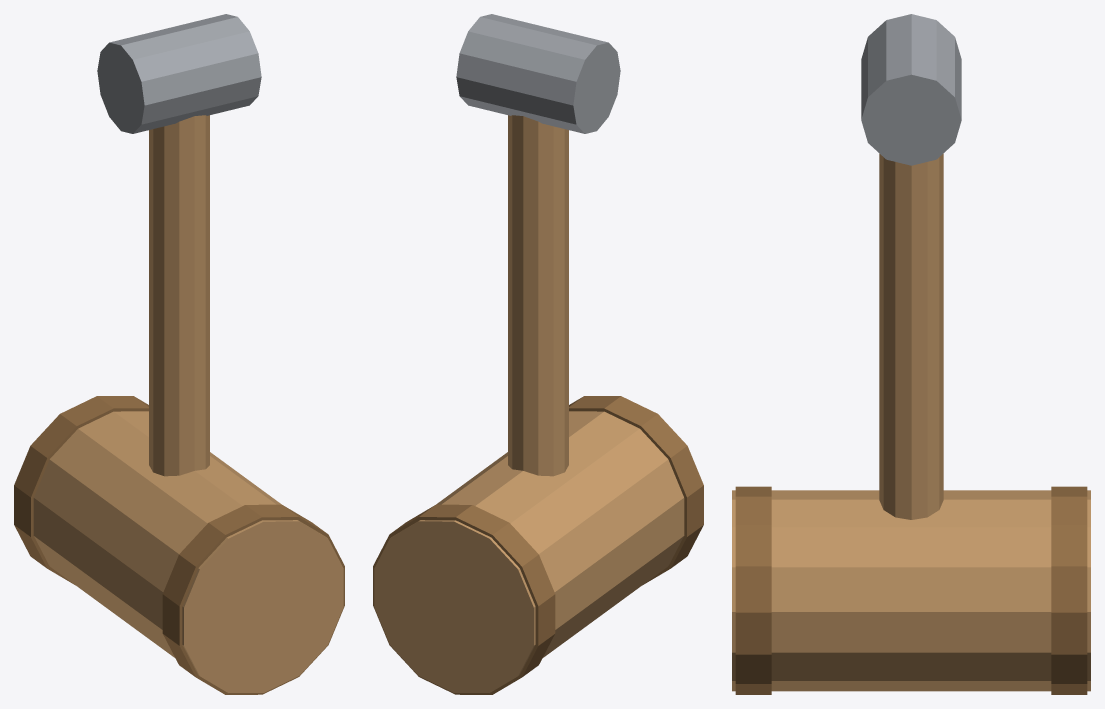
The model's file is SM_Trap_Hammer.fbx.
3 views of the same model, side by side, from view 1: azimuth 30°, elevation 25°; view 2: azimuth 150°, elevation 25°; view 3: azimuth 270°, elevation 25° (orthographic). The views are drawn at different scales.
Parts seen in each view (by area): view 1: SM_Trap_Hammer; view 2: SM_Trap_Hammer; view 3: SM_Trap_Hammer.
Part boxes in pixels (x1=…): SM_Trap_Hammer: x1=14, y1=14, x2=344, y2=694; SM_Trap_Hammer: x1=373, y1=14, x2=703, y2=694; SM_Trap_Hammer: x1=732, y1=14, x2=1090, y2=694.
Size of the model in its own units: 0.2827 by 0.985 by 0.5.
